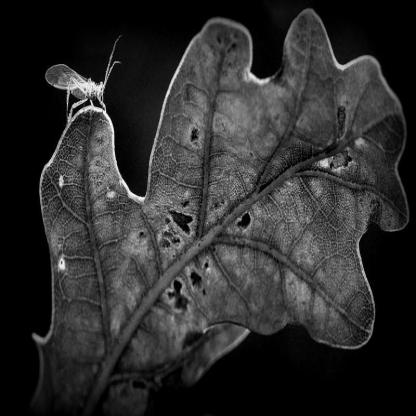aphid: (45, 36, 119, 119)
